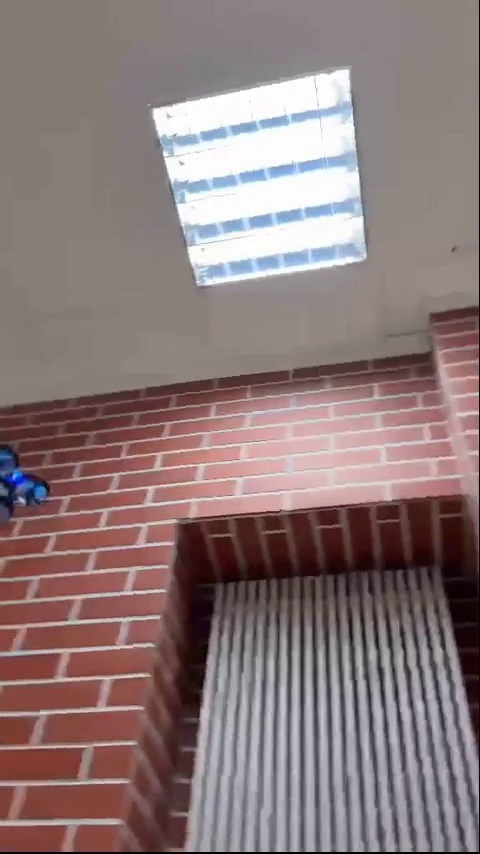drone: (0, 439, 51, 527)
